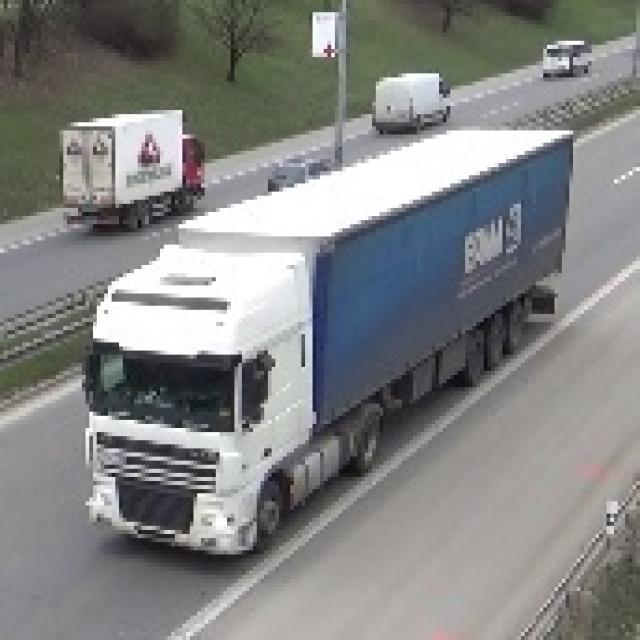BUS: (543, 37, 599, 78)
TRUCK: (73, 136, 571, 564), (46, 106, 208, 224), (377, 72, 453, 135)
